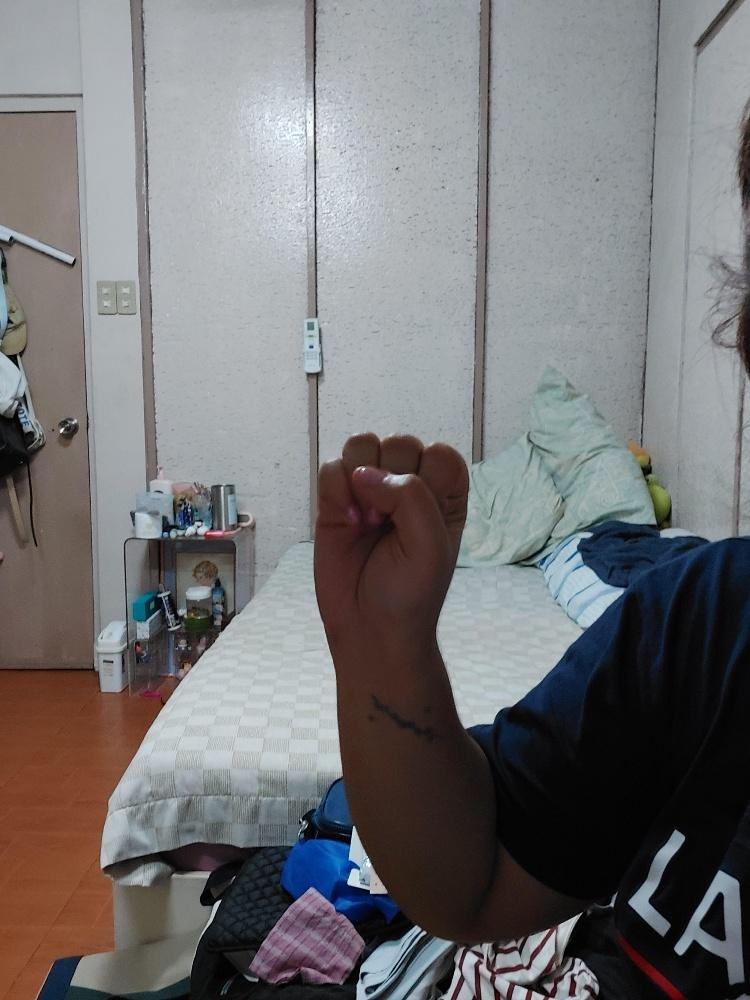s: (311, 429, 469, 639)
